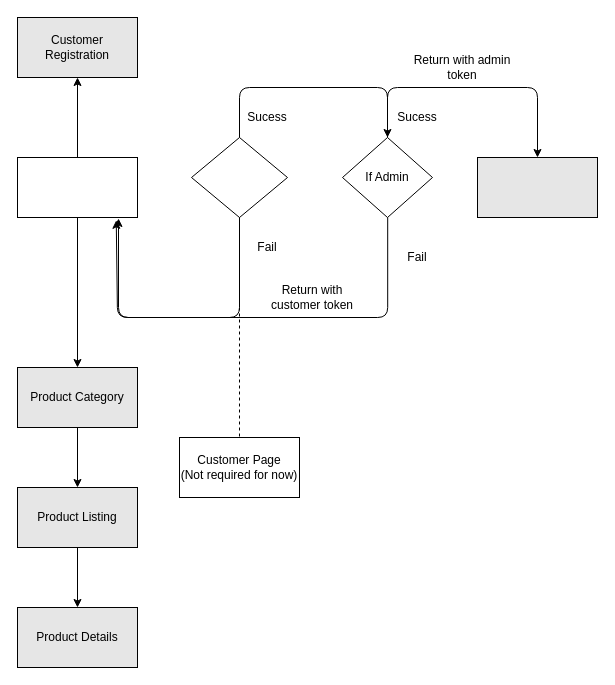
This 615x685 diagram has some shape labels left out. Here are the shapes that lost their labels. From the top down, the centre of each, then its label:
the point at 77,187: Homepage
the point at 239,177: If Login
the point at 537,187: Admin Page with CRUD
